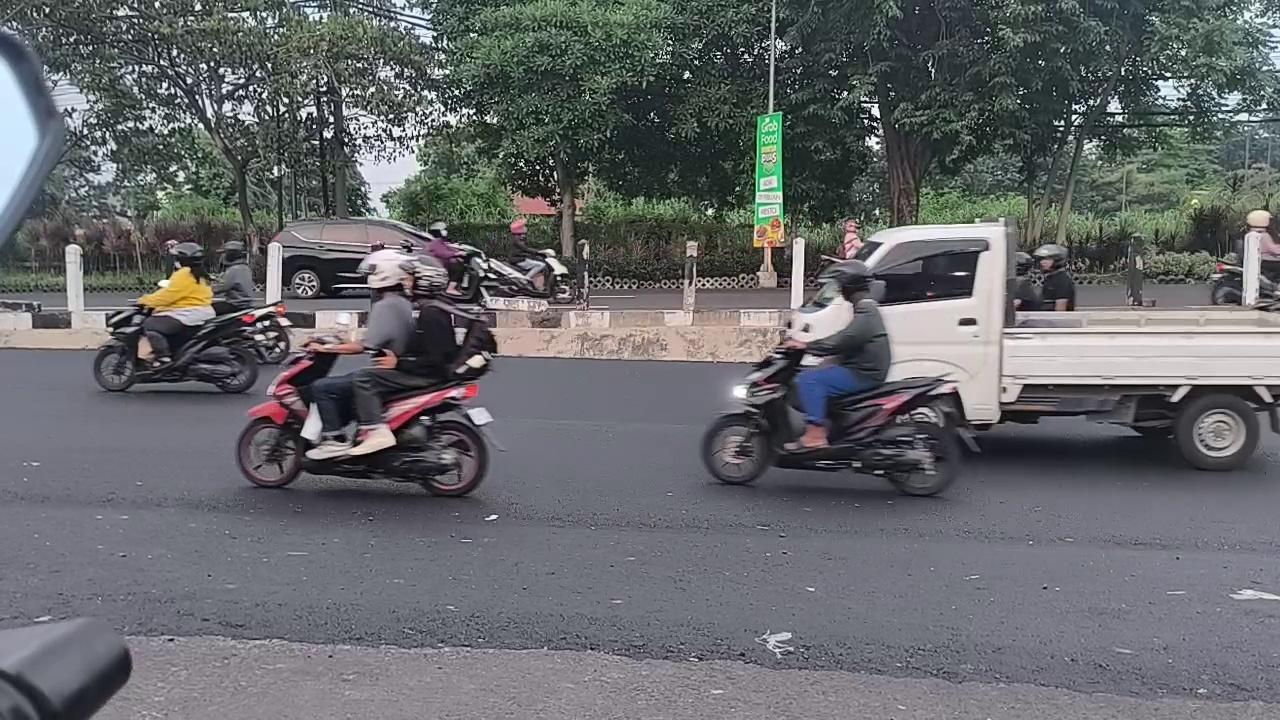Helmet: (349, 258, 457, 455), (783, 260, 890, 451), (305, 251, 414, 367), (137, 242, 214, 367), (213, 241, 254, 313), (1033, 243, 1075, 311), (427, 221, 464, 294), (508, 218, 541, 273), (1013, 251, 1041, 311)
Motor: (701, 346, 961, 495), (236, 350, 492, 495), (93, 306, 273, 393), (454, 244, 574, 303), (214, 301, 292, 364), (1209, 262, 1242, 305)
